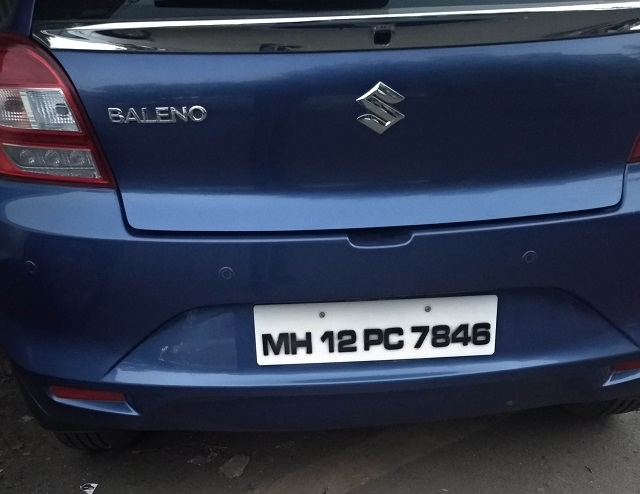licenseplate: (252, 291, 498, 359)
